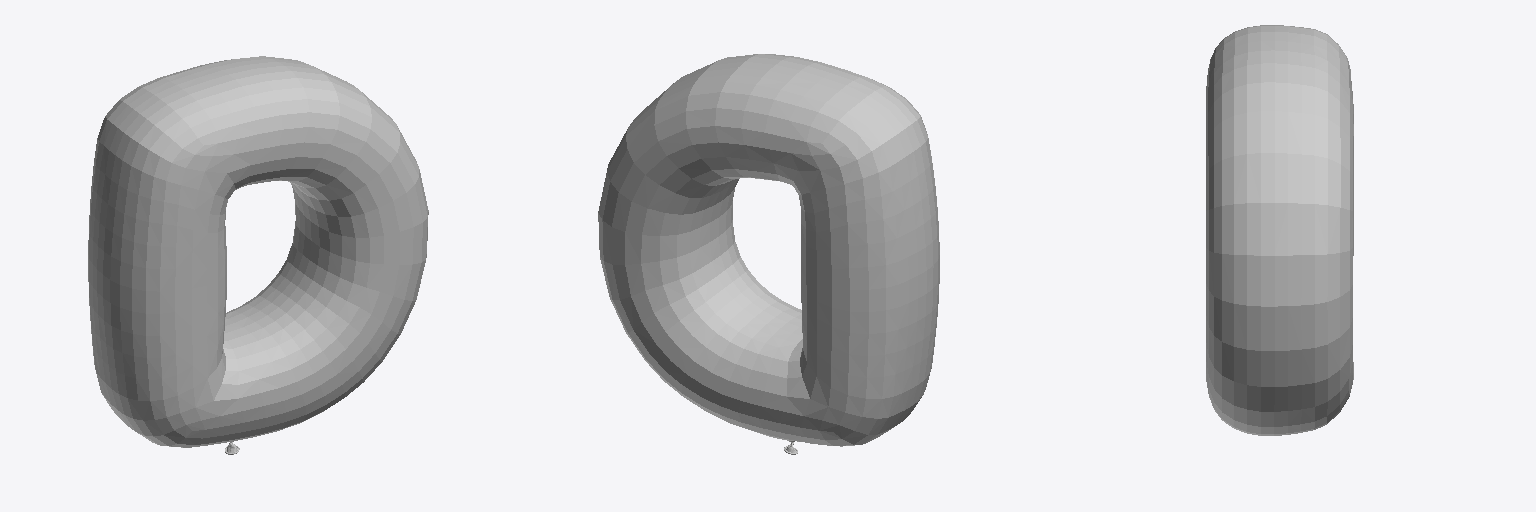
File: balloond.obj
The picture shows the model from 3 angles: view 1: azimuth 30°, elevation 25°; view 2: azimuth 150°, elevation 25°; view 3: azimuth 270°, elevation 25°; orthographic projection.
Parts seen in each view (by area): view 1: Balloon_Alphabet_Subdivision_D; view 2: Balloon_Alphabet_Subdivision_D; view 3: Balloon_Alphabet_Subdivision_D.
Boxes of the visible parts, x1=… form: Balloon_Alphabet_Subdivision_D: x1=88, y1=56, x2=428, y2=454; Balloon_Alphabet_Subdivision_D: x1=598, y1=54, x2=939, y2=454; Balloon_Alphabet_Subdivision_D: x1=1206, y1=25, x2=1353, y2=435.
Size of the model in its own units: 43.55 by 50.96 by 18.01.